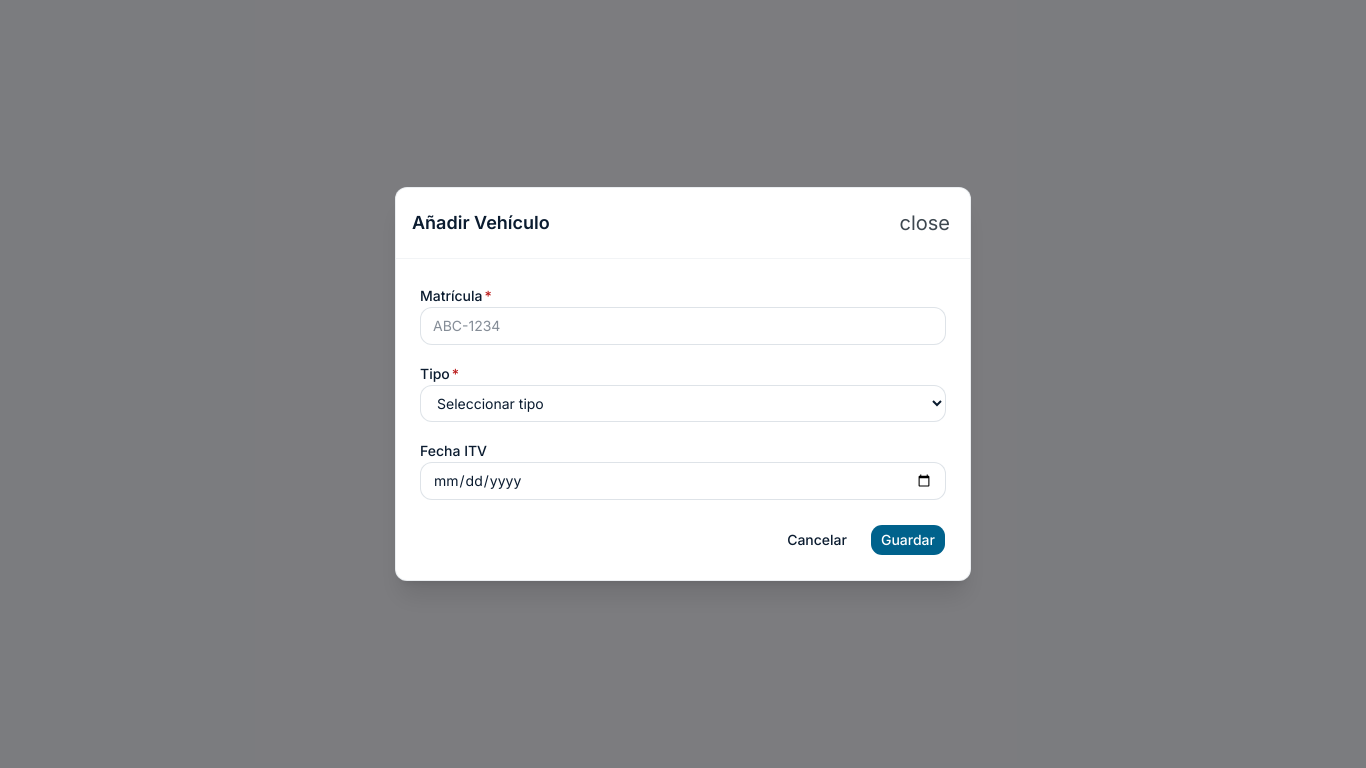
Scenario: CreateVehicleModal › validates required fields
Click the button "Guardar": [908, 540] box [870,524,946,556]
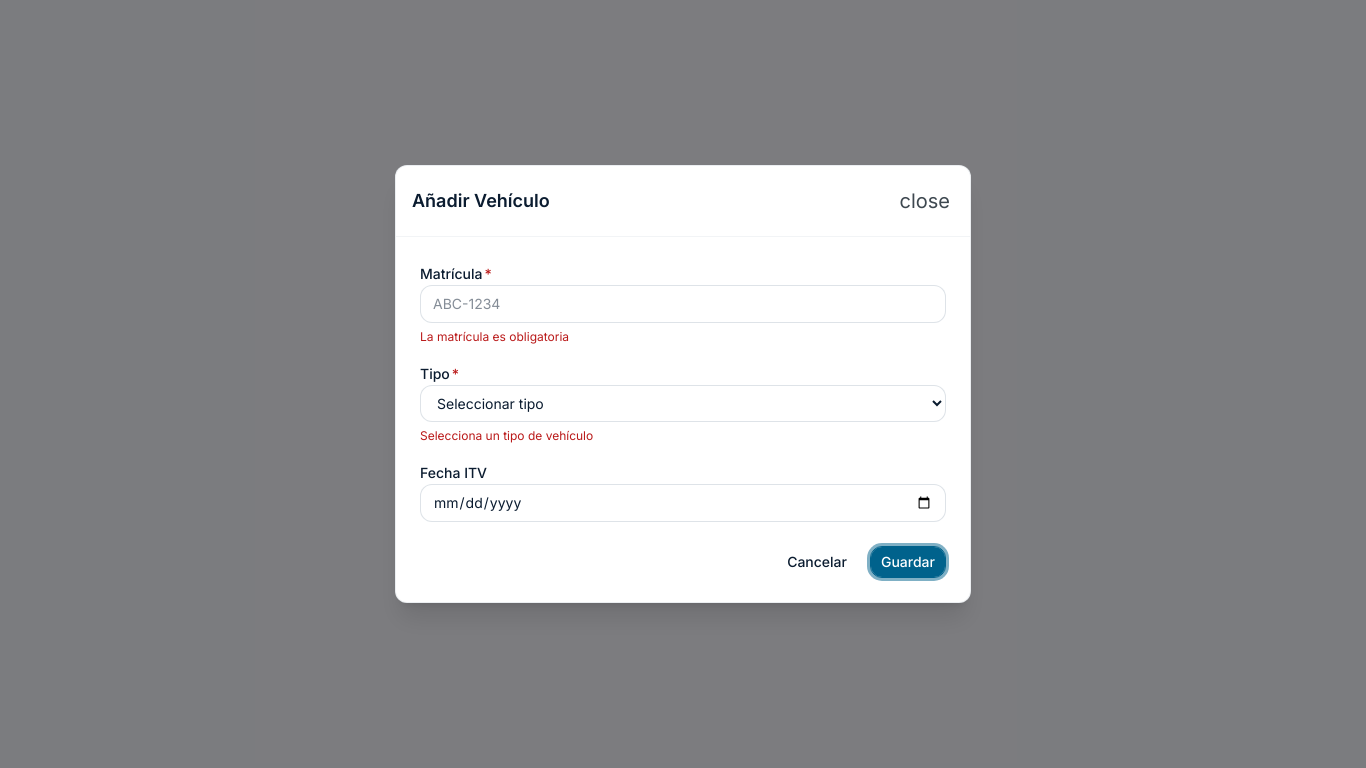
Expected: the text "La matrícula es obligatoria" is shown, [420,329,569,344]
Expected: the text "Selecciona un tipo de vehículo" is shown, [420,428,593,443]
